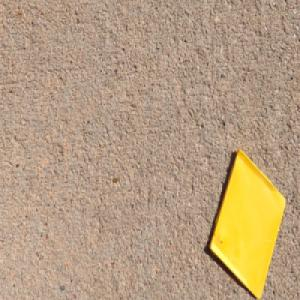PlasticPart: (208, 145, 286, 300)
